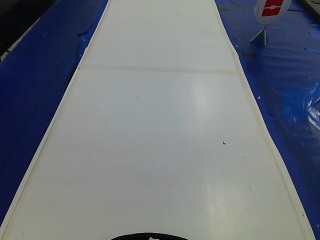company: (252, 0, 291, 31)
